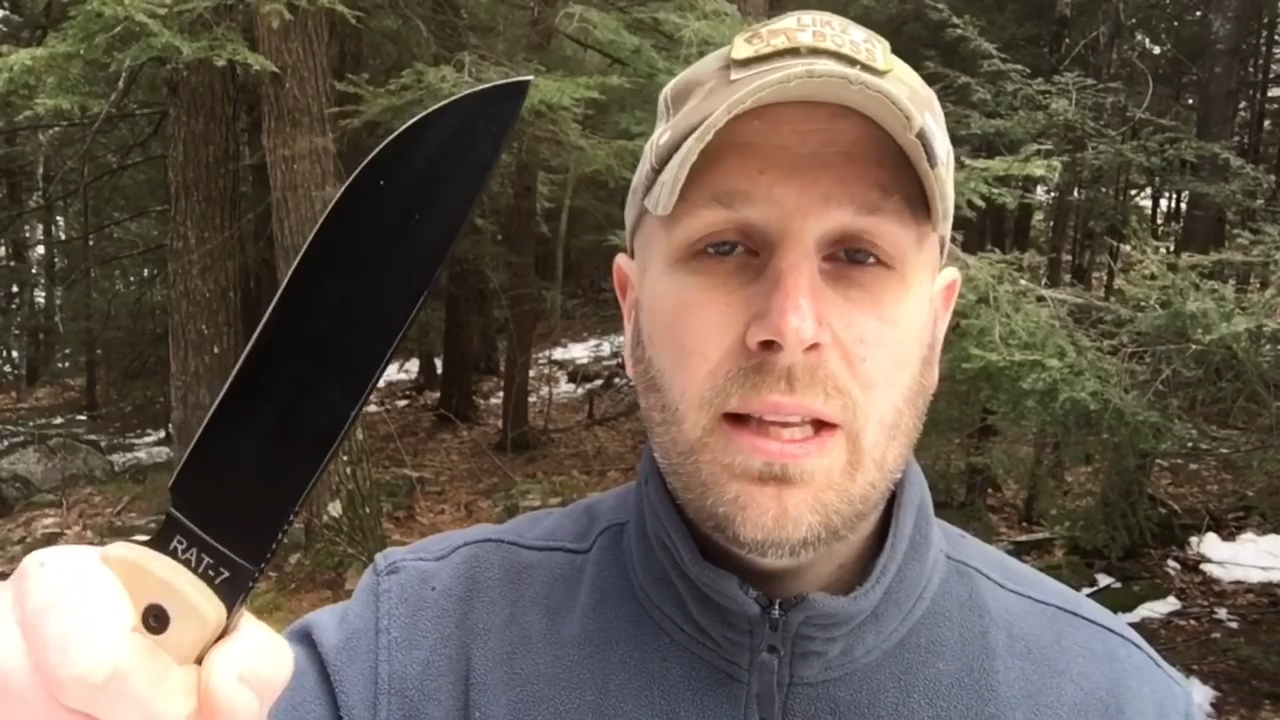knife: (1, 61, 546, 720)
